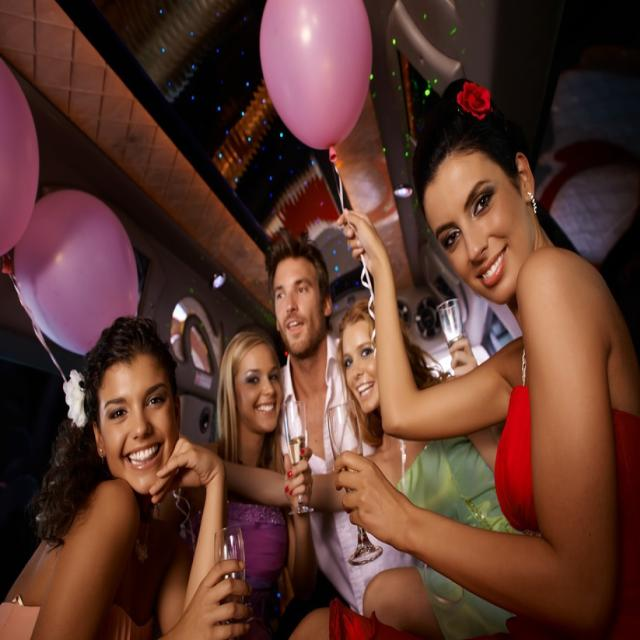body: (329, 75, 640, 640), (222, 293, 541, 640), (0, 316, 256, 639), (264, 236, 416, 618), (213, 326, 315, 640)
